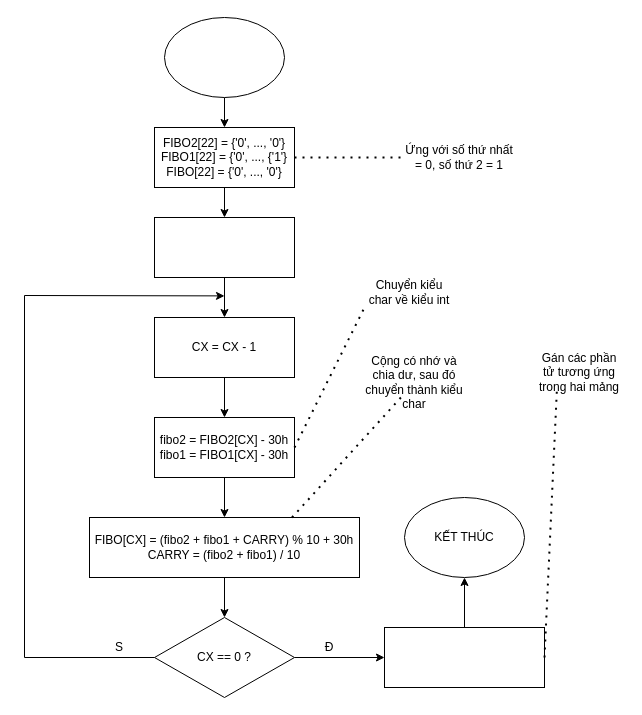
Some shapes in this 642 by 715 pixel diagram are drawn without their labels. Here are the shapes that lost their labels. From the top down, the centre of each, then its label:
At (x=224, y=57): "BẮT ĐẦU".
At (x=224, y=247): "CX = 22 CARRY = 0".
At (x=464, y=657): "FIBO2[22] = FIBO1[22] FIBO1[22] = FIBO[2]".
